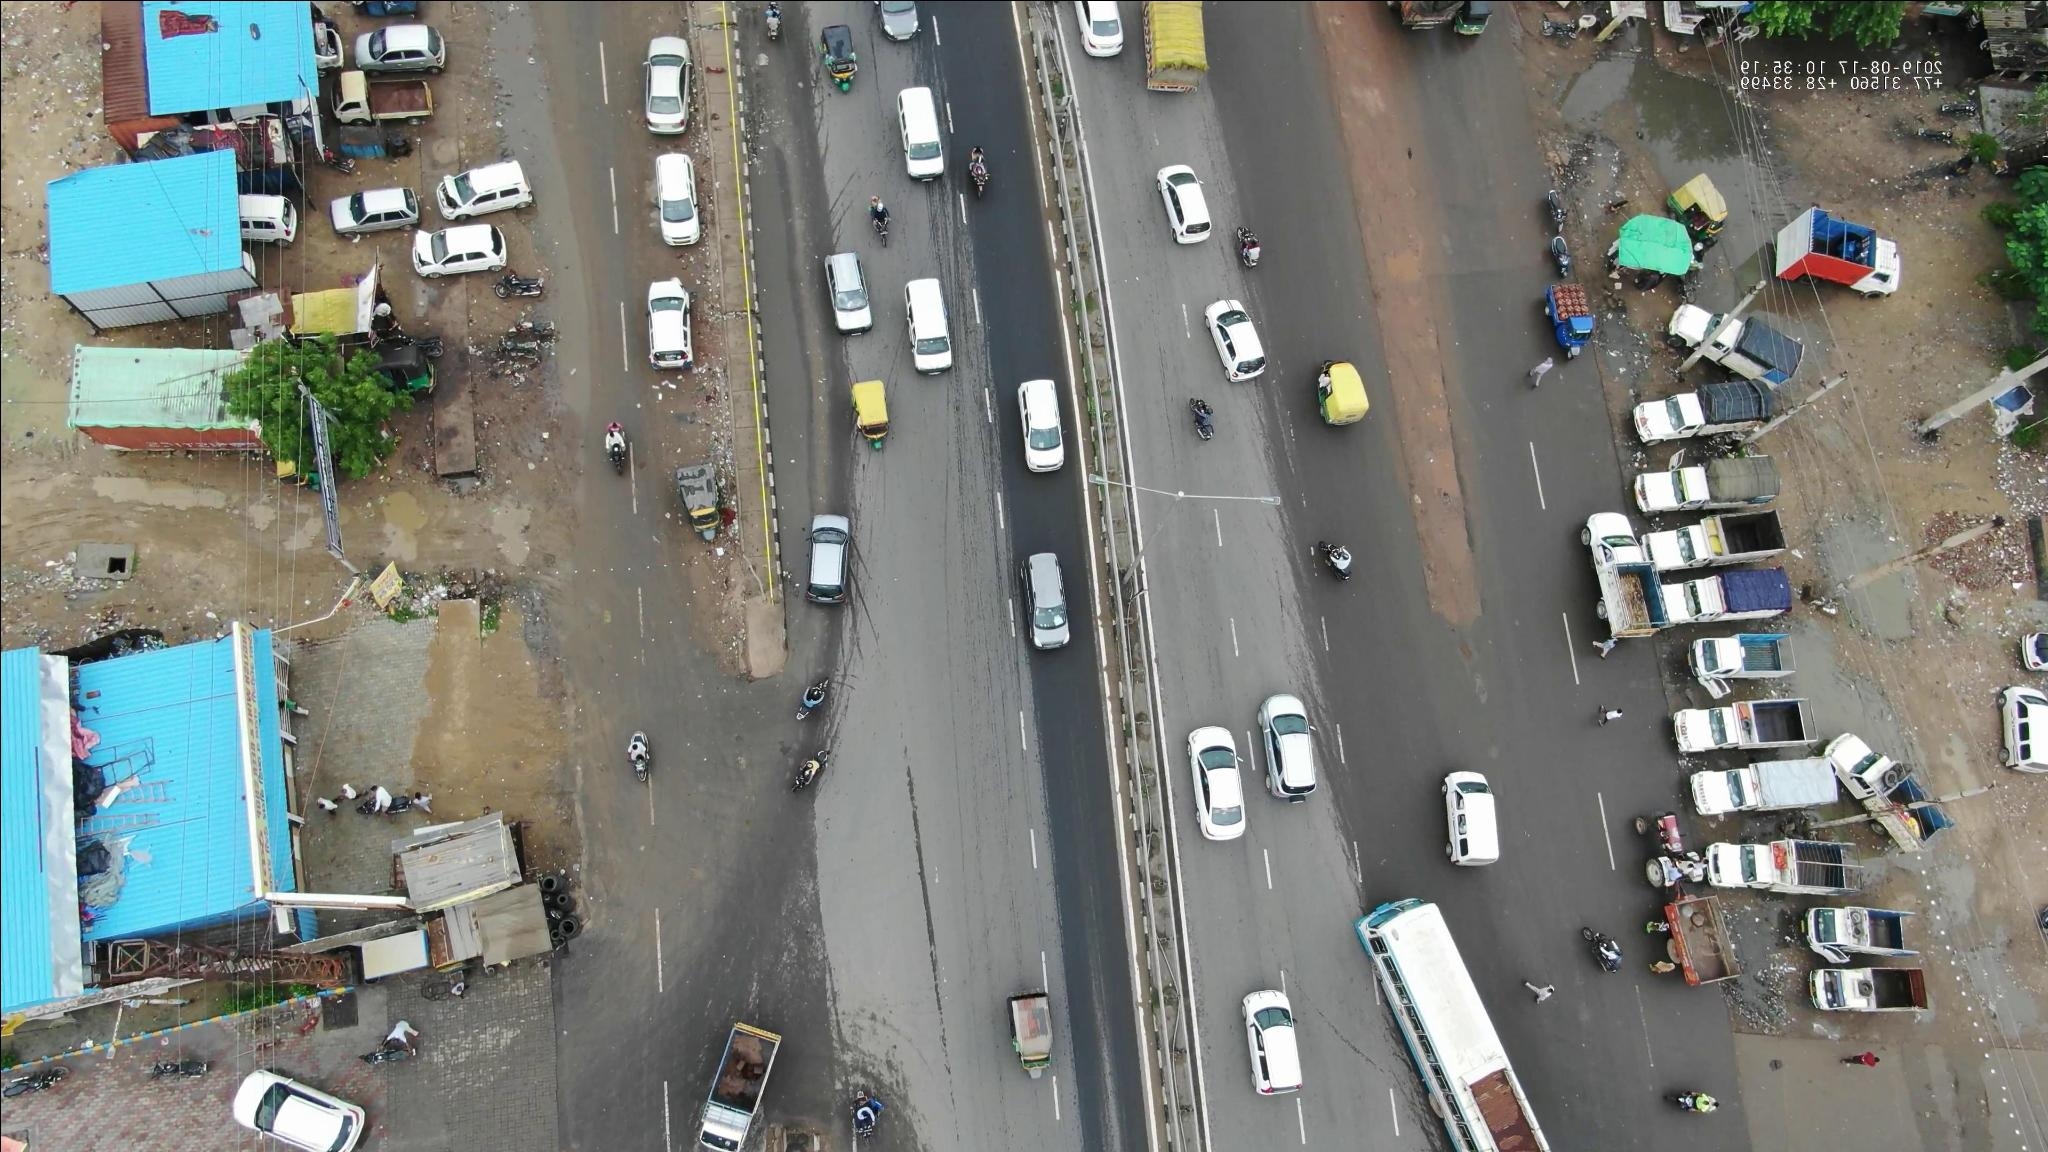Potholes: (1433, 633, 1505, 713)
Waterlogging: (489, 1, 598, 404), (748, 136, 833, 526)
